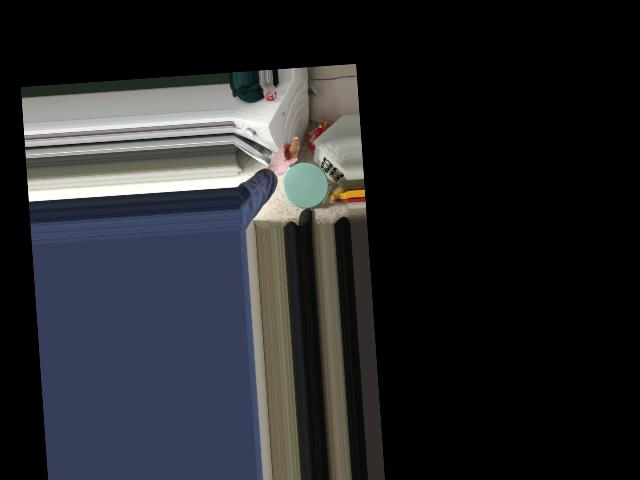sweet_potato: (278, 137, 300, 174)
